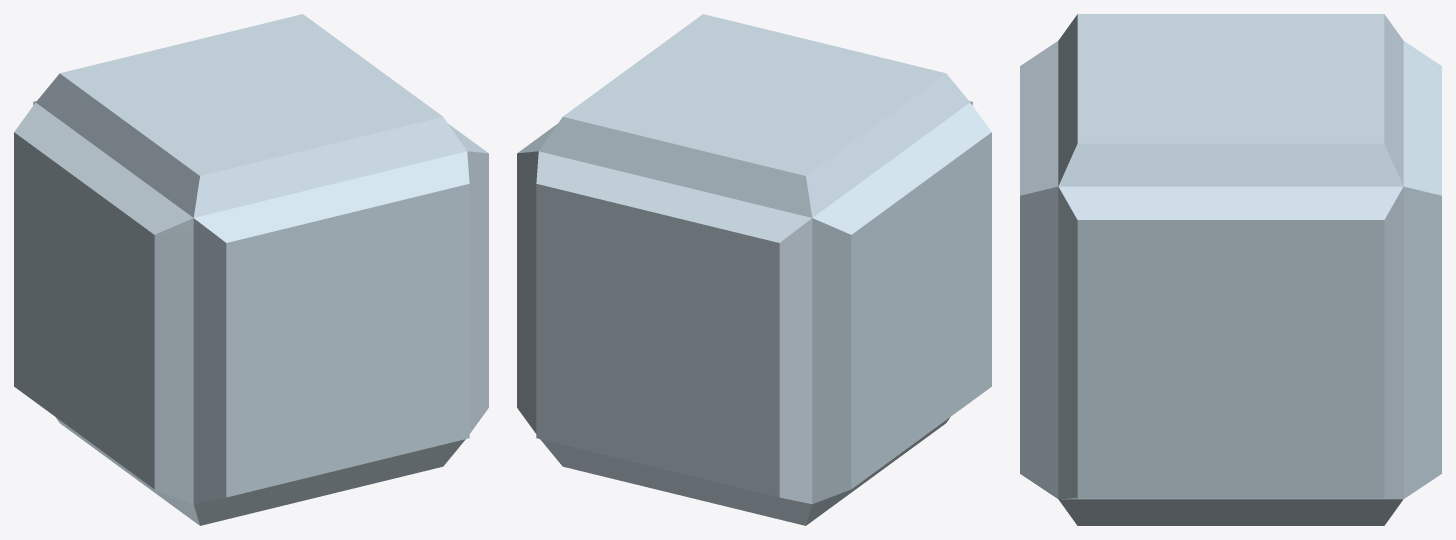
The picture shows the model from 3 angles, left to right: view 1: azimuth 30°, elevation 25°; view 2: azimuth 150°, elevation 25°; view 3: azimuth 270°, elevation 25°; orthographic projection. The views are drawn at different scales.
Visible parts, largest first — view 1: box-c-01; view 2: box-c-01; view 3: box-c-01.
Part boxes in pixels (x1,y1,x2,y2): box-c-01: (14,14,488,525); box-c-01: (517,14,991,525); box-c-01: (1020,14,1441,525).
Bounding box in the file's own units: 100 × 100 × 100.
